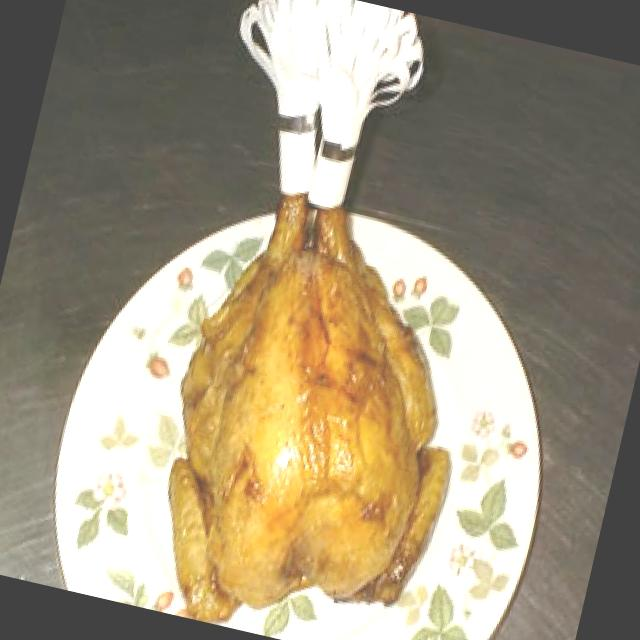Chicken: (139, 161, 496, 640)
